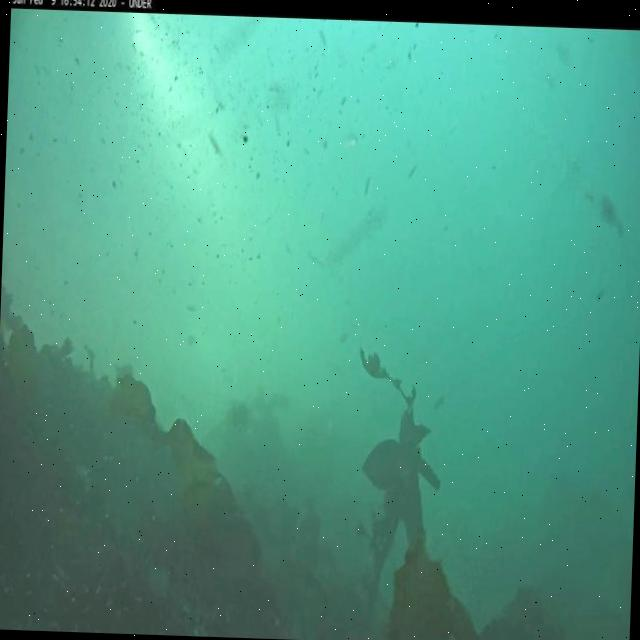fish: (338, 130, 359, 150)
